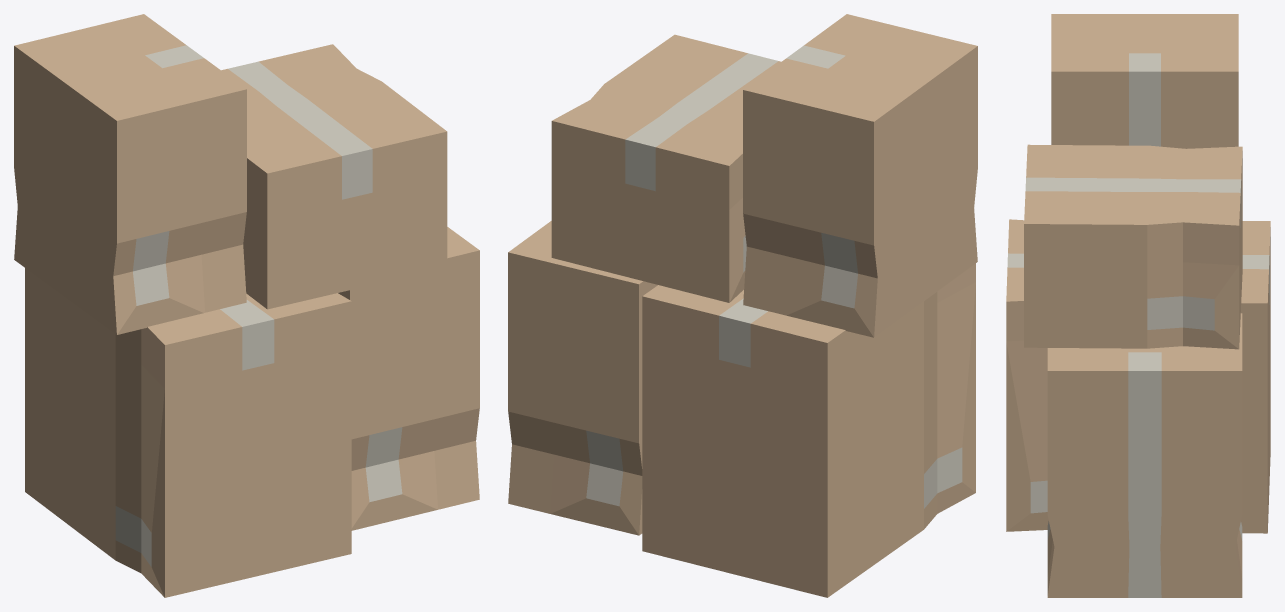
Rendered from CardboardBoxes_4.fbx.
3 renders of one model, left to right at view 1: azimuth 30°, elevation 25°; view 2: azimuth 150°, elevation 25°; view 3: azimuth 270°, elevation 25°, orthographic. The views are drawn at different scales.
Parts seen in each view (by area): view 1: CardboardBoxes_4.001; view 2: CardboardBoxes_4.001; view 3: CardboardBoxes_4.001.
Part boxes in pixels (bbox=[...]): CardboardBoxes_4.001: bbox=[14, 14, 479, 597]; CardboardBoxes_4.001: bbox=[508, 14, 977, 597]; CardboardBoxes_4.001: bbox=[1006, 14, 1270, 597].
Bounding box in the file's own units: 1.42 × 1.75 × 0.9863.
